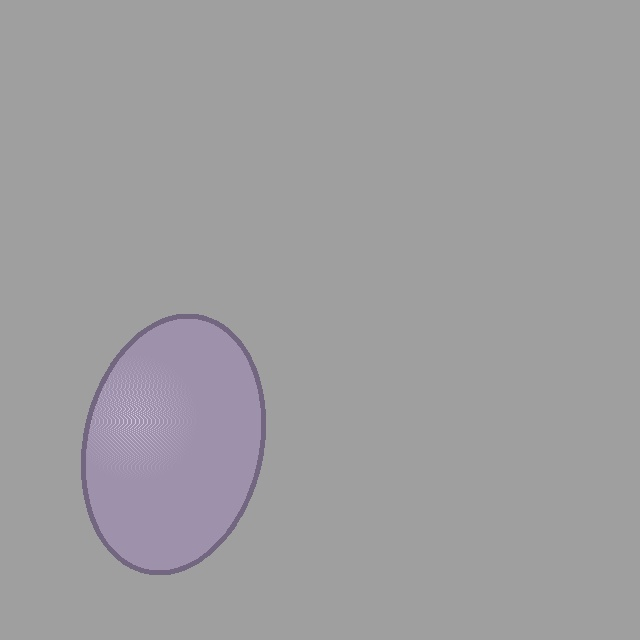lens: (83, 316, 263, 572)
